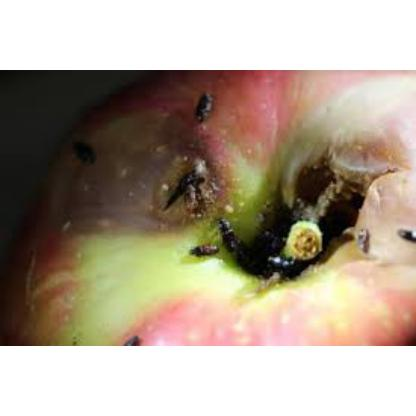apple: (35, 94, 404, 334)
